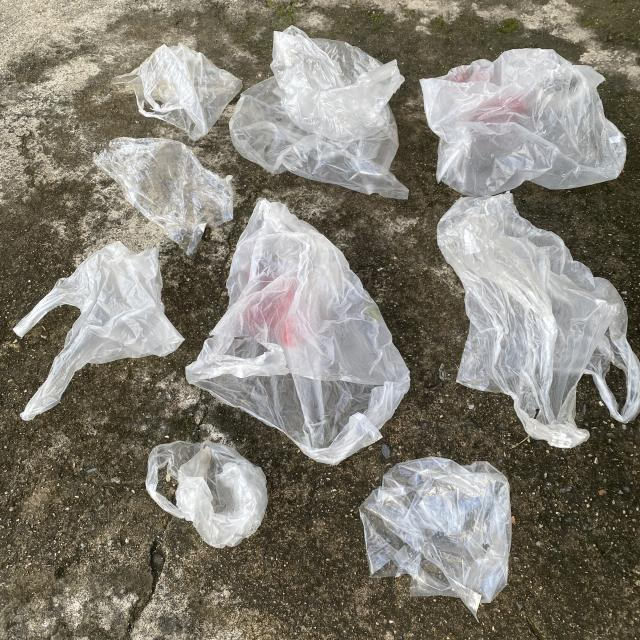Single-layer Plastic: (186, 200, 410, 465), (438, 192, 640, 448), (230, 26, 409, 199), (14, 241, 184, 420), (420, 49, 626, 196), (360, 456, 511, 618), (94, 138, 232, 255), (145, 441, 268, 549), (111, 44, 242, 140)
